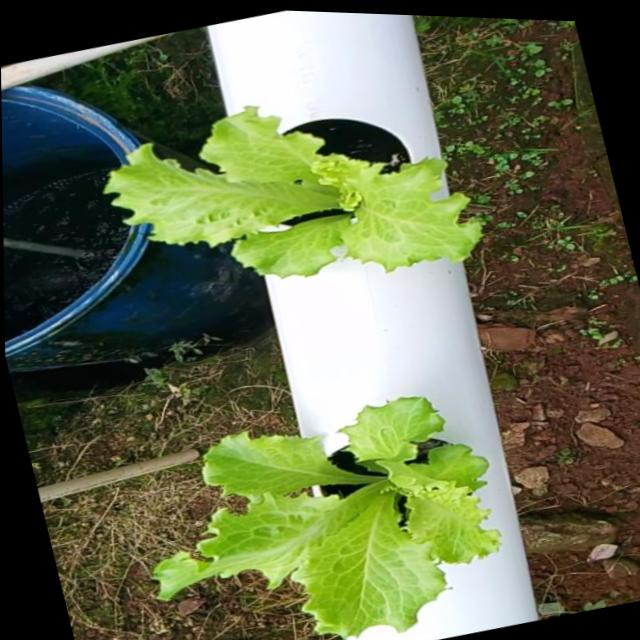Baby: (155, 396, 506, 638), (106, 102, 484, 274)
